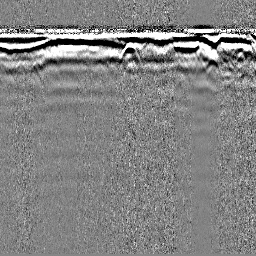cavity: (118, 41, 141, 64)
